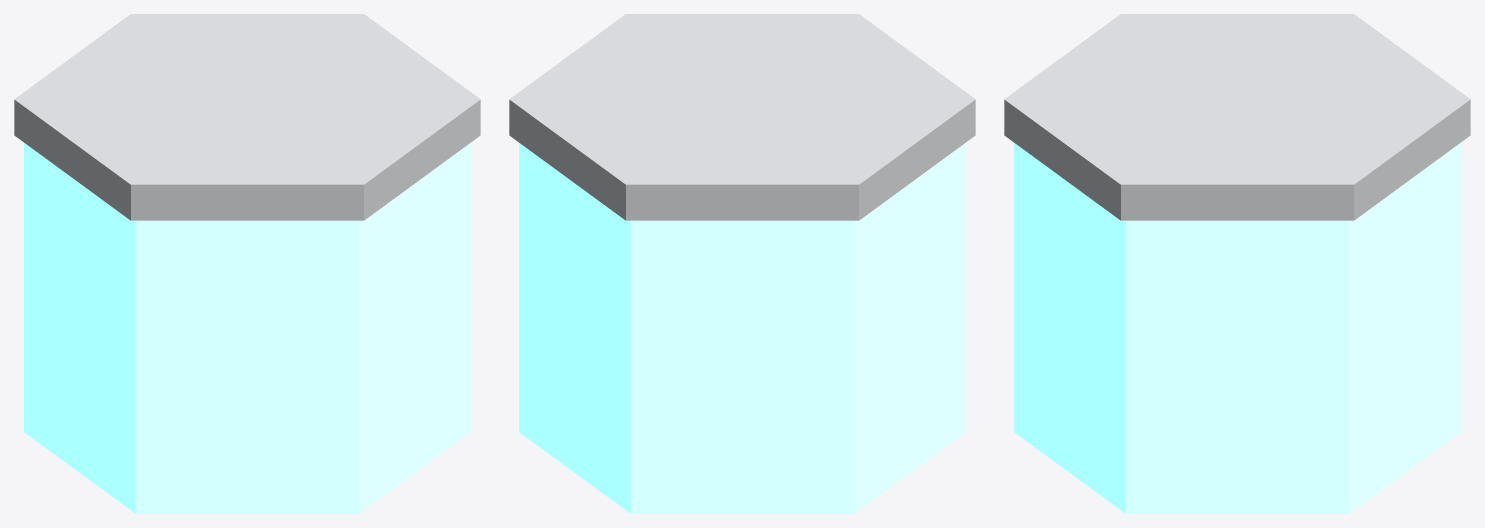
The model's file is bucket_crystal.glb.
The picture shows the model from 3 angles, left to right: view 1: azimuth 30°, elevation 25°; view 2: azimuth 150°, elevation 25°; view 3: azimuth 270°, elevation 25°; orthographic projection.
Visible parts, largest first — view 1: BucketCrystal; view 2: BucketCrystal; view 3: BucketCrystal.
Part boxes in pixels (box(x1,y1,x2,y2)): BucketCrystal: box(14, 14, 480, 513); BucketCrystal: box(509, 14, 975, 513); BucketCrystal: box(1004, 14, 1470, 513).
Bounding box in the file's own units: 0.8141 × 0.74 × 0.94.
